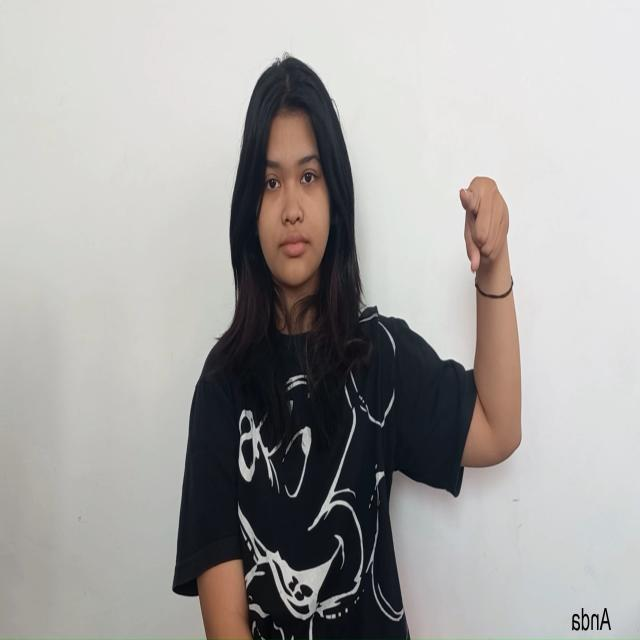Anda -BISINDO-: (457, 172, 511, 283)
